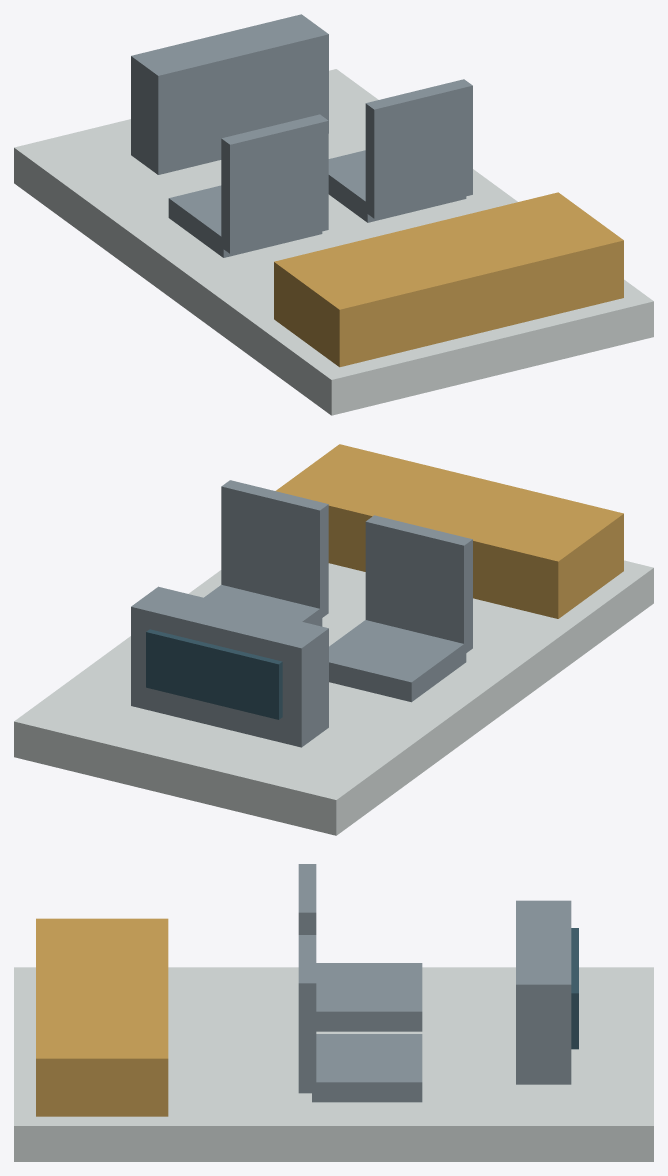
File: current_inside.glb
3 views of the same model, one above another, from view 1: azimuth 30°, elevation 25°; view 2: azimuth 150°, elevation 25°; view 3: azimuth 270°, elevation 25° (orthographic).
Parts seen in each view (by area): view 1: Current_Chassis, Current_RearDeck, Current_FrontHousing, Current_SeatBack_L, Current_SeatBack_R, Current_SeatBase_L, Current_SeatBase_R; view 2: Current_Chassis, Current_RearDeck, Current_FrontHousing, Current_SeatBack_L, Current_SeatBack_R, Current_FrontGlass, Current_SeatBase_L, Current_SeatBase_R; view 3: Current_Chassis, Current_RearDeck, Current_FrontHousing, Current_SeatBase_R, Current_SeatBase_L, Current_SeatBack_R, Current_SeatBack_L, Current_FrontGlass.
Boxes of the visible parts, box(x1,y1,x2,y2) form: Current_Chassis: box(14, 69, 653, 415); Current_RearDeck: box(274, 192, 623, 367); Current_FrontHousing: box(131, 14, 328, 174); Current_SeatBack_L: box(221, 114, 328, 253); Current_SeatBack_R: box(365, 79, 472, 218); Current_SeatBase_L: box(168, 185, 322, 257); Current_SeatBase_R: box(328, 150, 466, 222); Current_Chassis: box(14, 560, 653, 835); Current_RearDeck: box(276, 444, 623, 618); Current_FrontHousing: box(131, 586, 328, 747); Current_SeatBack_L: box(365, 515, 472, 654); Current_SeatBack_R: box(221, 480, 328, 619); Current_FrontGlass: box(146, 629, 282, 719); Current_SeatBase_L: box(329, 620, 466, 702); Current_SeatBase_R: box(204, 585, 322, 626); Current_Chassis: box(14, 967, 653, 1161); Current_RearDeck: box(36, 918, 168, 1116); Current_FrontHousing: box(516, 900, 571, 1084); Current_SeatBase_R: box(312, 1034, 422, 1102); Current_SeatBase_L: box(316, 963, 422, 1031); Current_SeatBack_R: box(298, 935, 316, 1093); Current_SeatBack_L: box(298, 864, 316, 934); Current_FrontGlass: box(571, 928, 578, 1049).
Size of the model in its own units: 1.7 by 0.795 by 2.9.
